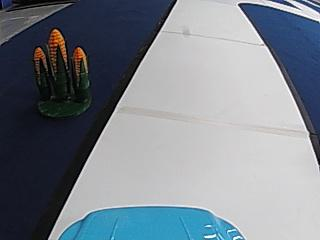corn: (28, 21, 92, 117)
